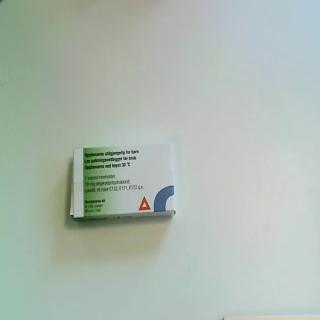oxynorm10mg: (70, 141, 178, 224)
